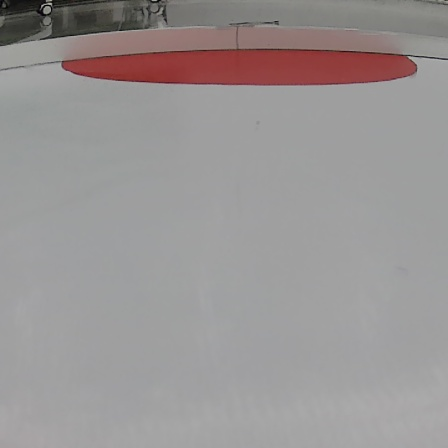red_base: (61, 47, 420, 86)
